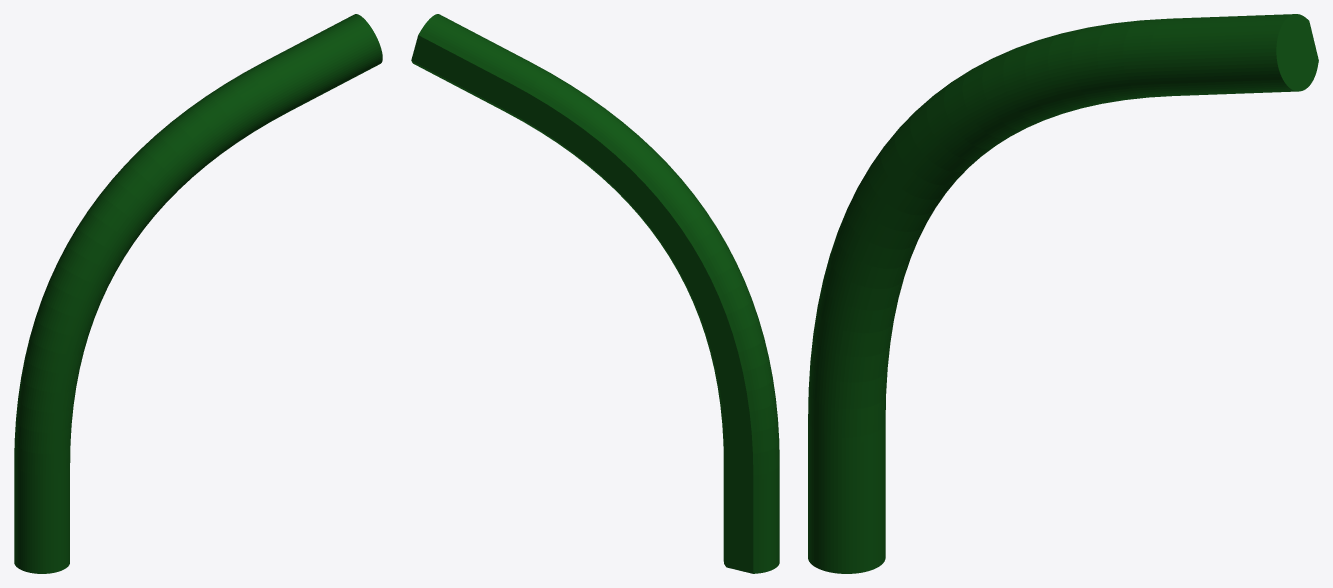
File: stem_3B_75_R.glb
3 renders of one model, left to right at view 1: azimuth 30°, elevation 25°; view 2: azimuth 150°, elevation 25°; view 3: azimuth 330°, elevation 25°, orthographic. The views are drawn at different scales.
Parts seen in each view (by area): view 1: stem_3B_75_R; view 2: stem_3B_75_R; view 3: stem_3B_75_R.
Boxes of the visible parts, x1,y1,x2,y2 form: stem_3B_75_R: (14, 14, 382, 573); stem_3B_75_R: (411, 14, 779, 573); stem_3B_75_R: (808, 14, 1318, 573).
Bounding box in the file's own units: 0.0528 × 0.0664 × 0.00666.
